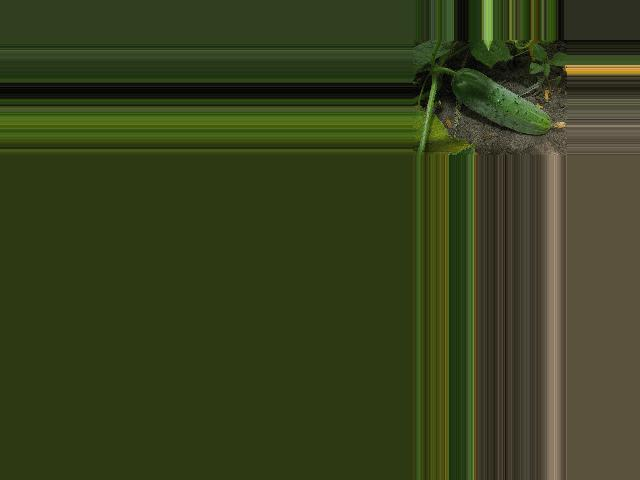cucumber: (451, 68, 567, 136)
